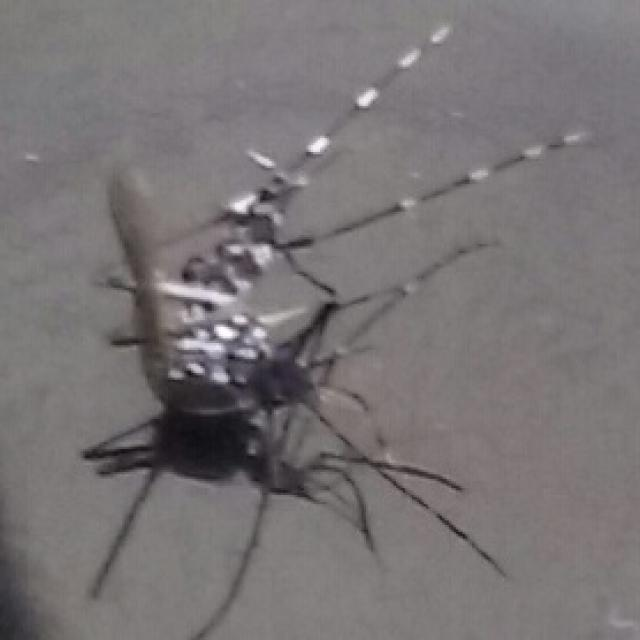albopictus: (55, 74, 553, 610)
